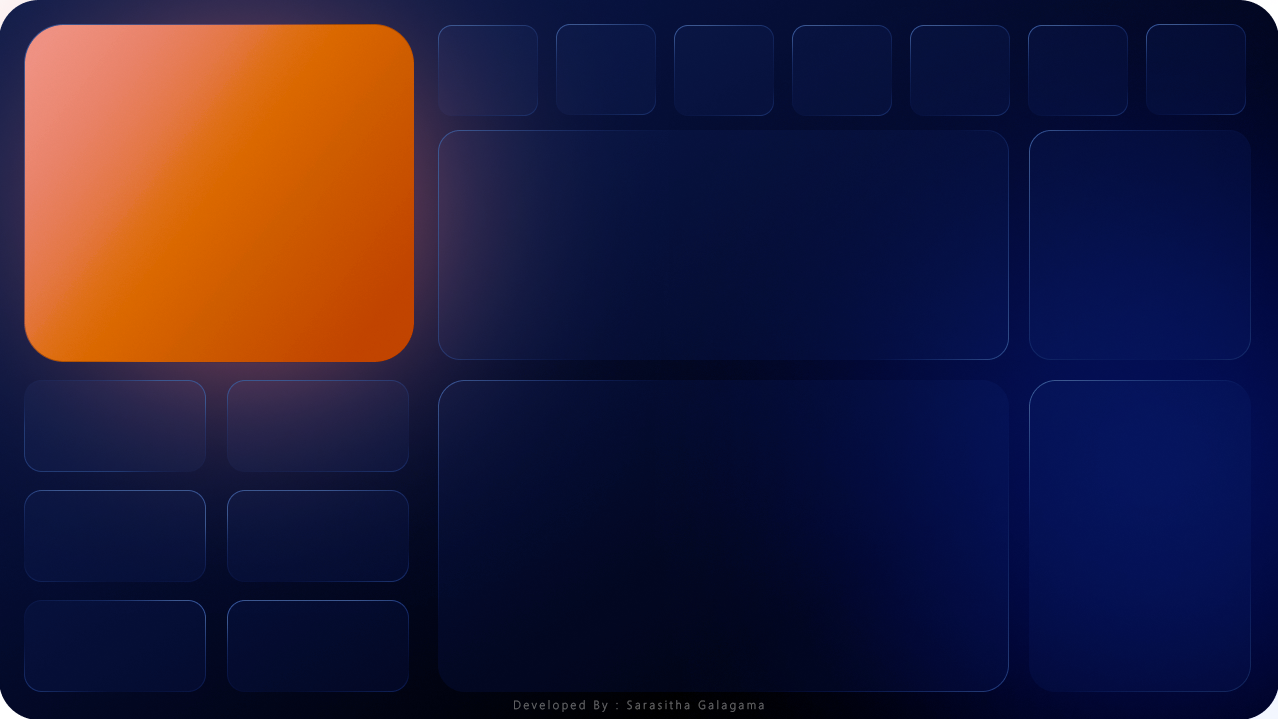

The page's visual inventory and layout, read from the dashboard file:
{"tool":"powerbi","page":{"name":"Page 1","canvas":[1280,720],"ordinal":0},"visuals":[{"type":"image","box":[38.7,388,20,24],"z":0,"group":"g1"},{"type":"shape","box":[493,441,162,162],"z":0},{"type":"shape","box":[65.6,387.8,73.3,24.4],"z":1000,"group":"g1"},{"type":"advancedSlicerVisual","fields":{"Values":["Locations.location.name"]},"box":[24.3,286.9,392,65.2],"z":1000},{"type":"image","box":[239,388.1,20,24],"z":2000},{"type":"image","box":[38.9,499.1,20,24],"z":3000},{"type":"shape","box":[267.1,387.3,73.3,24.4],"z":4000},{"type":"image","box":[38.9,611.3,20,24],"z":5000},{"type":"shape","box":[65.8,498.9,73.3,24.4],"z":6000},{"type":"shape","box":[65.8,611.1,73.3,24.4],"z":7000},{"type":"shape","box":[25,182,391,76],"z":8000},{"type":"shape","box":[49,253,342,30],"z":9000},{"type":"shape","box":[192,37.8,193.1,30.2],"z":10000},{"type":"shape","box":[84,39,115,30],"z":11000},{"type":"image","box":[48.5,37.8,28,32.4],"z":12000},{"type":"cardVisual","fields":{"Data":["Min(Current.current.condition.icon)"]},"box":[124,75,187,139],"z":13000},{"type":"group","id":"g1","title":"Group 1","box":[38.7,387.8,100.2,24.4],"z":14000},{"type":"image","box":[241.9,499.3,20,24],"z":15000},{"type":"image","box":[241.8,610.2,20,24],"z":16000},{"type":"shape","box":[269.2,609.6,83.1,24.7],"z":17000},{"type":"shape","box":[269.2,499.1,72.7,24.5],"z":18000},{"type":"cardVisual","fields":{"Data":["Sum(Current.current.humidity)"]},"box":[25,409,182,60],"z":19000},{"type":"cardVisual","fields":{"Data":["_Measures.Visibility"]},"box":[24,519,182,60],"z":20000},{"type":"cardVisual","fields":{"Data":["Sum(Current.current.uv)"]},"box":[24,630,182,60],"z":21000},{"type":"cardVisual","fields":{"Data":["_Measures.Wind_Speed"]},"box":[228,410,182,60],"z":22000},{"type":"cardVisual","fields":{"Data":["Sum(Current.current.pressure_in)"]},"box":[228,519,182,60],"z":23000},{"type":"cardVisual","fields":{"Data":["_Measures.Precipatation"]},"box":[228,630,182,60],"z":24000},{"type":"advancedSlicerVisual","fields":{"Values":["Forcast_Day.Day_Name"]},"box":[425,28,837,93],"z":25000},{"type":"lineChart","title":"Forecast Weather","fields":{"Category":["Forcast_Day.Day_Name"],"Y":["Sum(Forcast_Day.forecast.forecastday.day.avgtemp_c)"]},"box":[450,136,551,215],"z":26000},{"type":"shape","box":[1043,136,169,25],"z":27000},{"type":"shape","box":[1105,214,107,32],"z":28000},{"type":"shape","box":[1105,187,107,32],"z":29000},{"type":"shape","box":[1106,291,107,32],"z":30000},{"type":"shape","box":[1106,264,107,32],"z":31000},{"type":"image","box":[1044,275,40,41],"z":32000},{"type":"image","box":[1044,198,40,41],"z":33000},{"type":"hundredPercentStackedBarChart","title":"Chance of Rain","fields":{"Y":["Sum(Forcast_Day.forecast.forecastday.day.daily_chance_of_rain)","Current.Left_value_rain"],"Category":["Forcast_Day.Day_Name"]},"box":[1041,388,198,293],"z":34000},{"type":"shape","box":[454,385,169,25],"z":35000},{"type":"cardVisual","fields":{"Data":["Sum(Current.current.air_quality.o3)"]},"box":[868.2,409.2,95,75],"z":36000},{"type":"cardVisual","fields":{"Data":["Sum(Current.current.air_quality.pm2_5)"]},"box":[863.7,497.2,104,75],"z":37000},{"type":"cardVisual","fields":{"Data":["Sum(Current.current.air_quality.no2)"]},"box":[862.2,584.2,107,75],"z":38000},{"type":"cardVisual","fields":{"Data":["Sum(Current.current.air_quality.pm10)"]},"box":[747,409.2,110,75],"z":39000},{"type":"cardVisual","fields":{"Data":["Sum(Current.current.air_quality.co)"]},"box":[743,497.2,117,75],"z":40000},{"type":"cardVisual","fields":{"Data":["Sum(Current.current.air_quality.so2)"]},"box":[749,584.2,106,75],"z":41000},{"type":"shape","box":[742.3,438.8,16,16],"z":42000},{"type":"shape","box":[742.3,526.8,16,16],"z":43000},{"type":"shape","box":[742.3,613.8,16,16],"z":44000},{"type":"shape","box":[866,438.8,16,16],"z":45000},{"type":"shape","box":[866,526.8,16,16],"z":46000},{"type":"shape","box":[866,613.8,16,16],"z":47000},{"type":"shape","box":[679,415,47,248],"z":48000},{"type":"donutChart","fields":{"Y":["Sum(Current.current.air_quality.pm10)","_Measures.Left_Value_pm10"]},"box":[469,439,210,167],"z":49000},{"type":"cardVisual","fields":{"Data":["Sum(Current.current.air_quality.pm10)"]},"box":[519,492,110,70],"z":50000},{"type":"shape","box":[474,604,199,56],"z":51000}]}

Visuals, with their boxes in screenshot pixels (x1, y1, x2, y2), scaled from the page's 1280x720 canvas onto the 1278x719 screenshot:
image: Rect(39, 387, 59, 411)
shape: Rect(492, 440, 654, 602)
shape: Rect(65, 387, 139, 412)
advancedSlicerVisual - Locations.location.name: Rect(24, 287, 416, 352)
image: Rect(239, 388, 259, 412)
image: Rect(39, 498, 59, 522)
shape: Rect(267, 387, 340, 411)
image: Rect(39, 610, 59, 634)
shape: Rect(66, 498, 139, 523)
shape: Rect(66, 610, 139, 635)
shape: Rect(25, 182, 415, 258)
shape: Rect(49, 253, 390, 283)
shape: Rect(192, 38, 384, 68)
shape: Rect(84, 39, 199, 69)
image: Rect(48, 38, 76, 70)
cardVisual - Min(Current.current.condition.icon): Rect(124, 75, 311, 214)
"Group 1" group: Rect(39, 387, 139, 412)
image: Rect(242, 499, 261, 523)
image: Rect(241, 609, 261, 633)
shape: Rect(269, 609, 352, 633)
shape: Rect(269, 498, 341, 523)
cardVisual - Sum(Current.current.humidity): Rect(25, 408, 207, 468)
cardVisual - _Measures.Visibility: Rect(24, 518, 206, 578)
cardVisual - Sum(Current.current.uv): Rect(24, 629, 206, 689)
cardVisual - _Measures.Wind_Speed: Rect(228, 409, 409, 469)
cardVisual - Sum(Current.current.pressure_in): Rect(228, 518, 409, 578)
cardVisual - _Measures.Precipatation: Rect(228, 629, 409, 689)
advancedSlicerVisual - Forcast_Day.Day_Name: Rect(424, 28, 1260, 121)
"Forecast Weather" lineChart: Rect(449, 136, 999, 351)
shape: Rect(1041, 136, 1210, 161)
shape: Rect(1103, 214, 1210, 246)
shape: Rect(1103, 187, 1210, 219)
shape: Rect(1104, 291, 1211, 323)
shape: Rect(1104, 264, 1211, 296)
image: Rect(1042, 275, 1082, 316)
image: Rect(1042, 198, 1082, 239)
"Chance of Rain" hundredPercentStackedBarChart: Rect(1039, 387, 1237, 680)
shape: Rect(453, 384, 622, 409)
cardVisual - Sum(Current.current.air_quality.o3): Rect(867, 409, 962, 484)
cardVisual - Sum(Current.current.air_quality.pm2_5): Rect(862, 497, 966, 571)
cardVisual - Sum(Current.current.air_quality.no2): Rect(861, 583, 968, 658)
cardVisual - Sum(Current.current.air_quality.pm10): Rect(746, 409, 856, 484)
cardVisual - Sum(Current.current.air_quality.co): Rect(742, 497, 859, 571)
cardVisual - Sum(Current.current.air_quality.so2): Rect(748, 583, 854, 658)
shape: Rect(741, 438, 757, 454)
shape: Rect(741, 526, 757, 542)
shape: Rect(741, 613, 757, 629)
shape: Rect(865, 438, 881, 454)
shape: Rect(865, 526, 881, 542)
shape: Rect(865, 613, 881, 629)
shape: Rect(678, 414, 725, 662)
donutChart - Sum(Current.current.air_quality.pm10) x _Measures.Left_Value_pm10: Rect(468, 438, 678, 605)
cardVisual - Sum(Current.current.air_quality.pm10): Rect(518, 491, 628, 561)
shape: Rect(473, 603, 672, 659)
